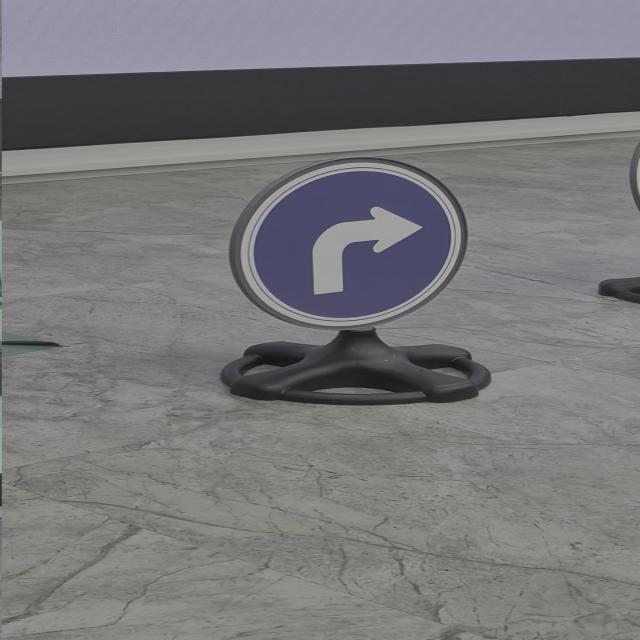right_dierection: (228, 149, 514, 337)
